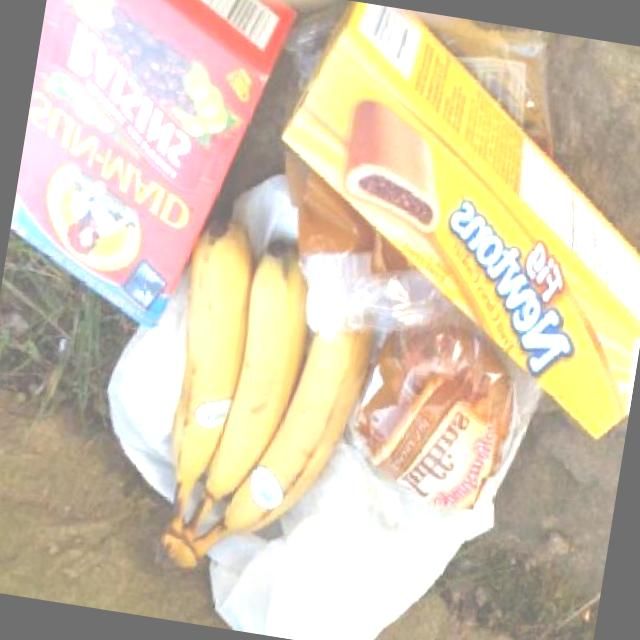Banana: (135, 212, 393, 597)
